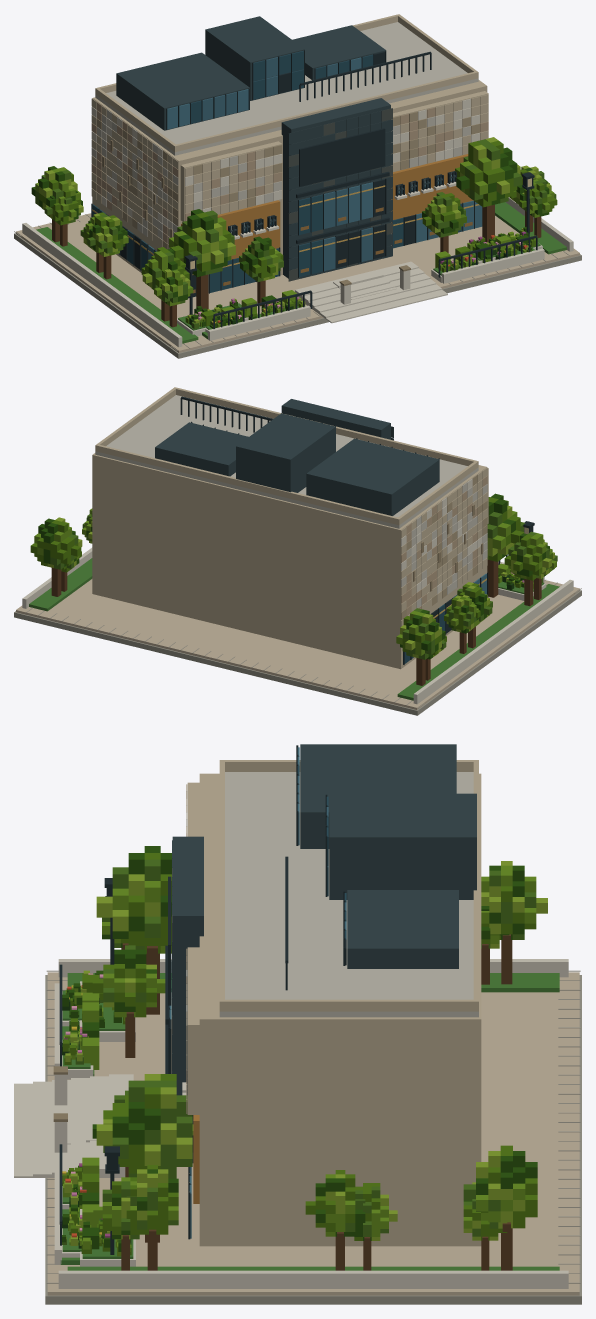
The model's file is SM_Mapa_023.fbx.
The picture shows the model from 3 angles, top to bottom: view 1: azimuth 30°, elevation 25°; view 2: azimuth 150°, elevation 25°; view 3: azimuth 270°, elevation 25°; orthographic projection. The views are drawn at different scales.
Visible parts, largest first — view 1: SM_Mapa_023; view 2: SM_Mapa_023; view 3: SM_Mapa_023.
Boxes of the visible parts, x1,y1,x2,y2 form: SM_Mapa_023: (14,14,581,358); SM_Mapa_023: (14,387,581,715); SM_Mapa_023: (14,744,581,1304).
Size of the model in its own units: 65 by 48.41 by 29.73.
